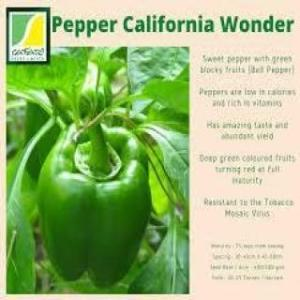bell_pepper: (32, 118, 157, 294)
